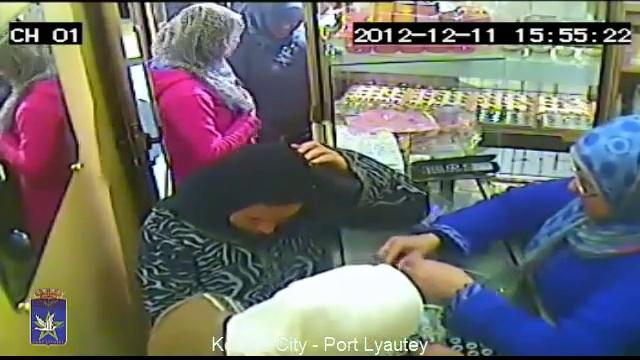Regular: (411, 112, 640, 360), (139, 227, 407, 360), (211, 121, 342, 243), (228, 0, 314, 108)
Shoplifting: (149, 0, 279, 154)
